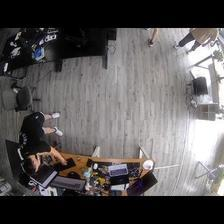normal: (19, 112, 68, 173), (175, 28, 222, 55)
